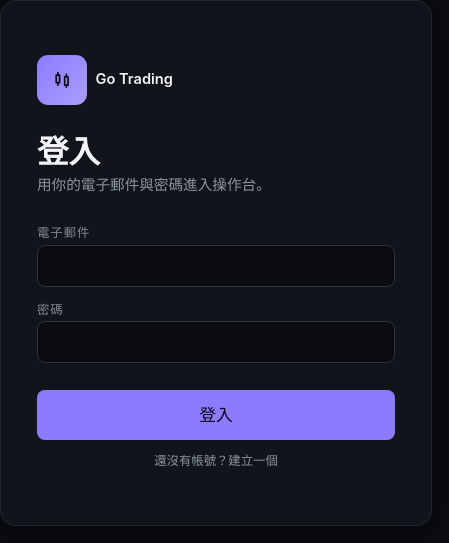
Test case: SignInPanel：送出 › 切過去再切回來就回到登入
The image size is (449, 543).
Click the button with test id "switch-mode". click: click(216, 460)
box: [144, 449, 288, 471]
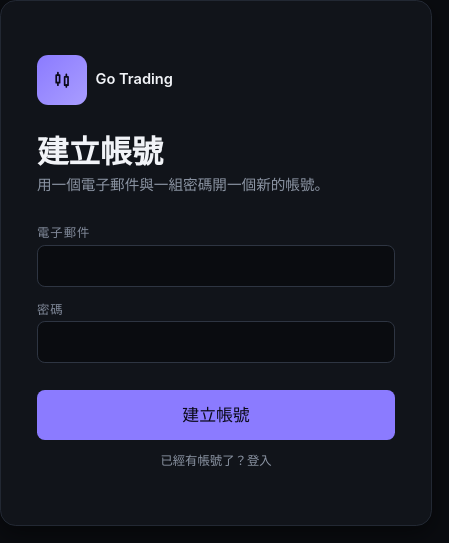
Click the button with test id "switch-mode". click: click(216, 460)
box: [150, 449, 282, 471]
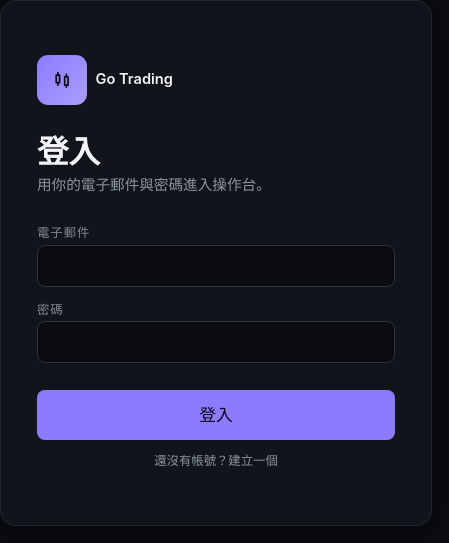
Check: the heading "登入" is shown, box [37, 132, 100, 170]
